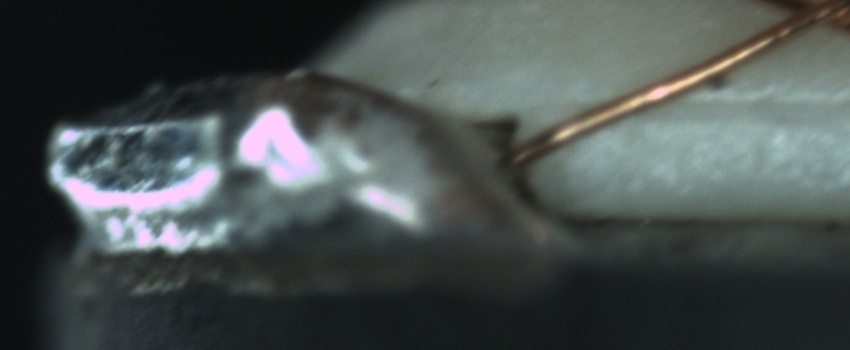CL: (770, 1, 844, 33)
DL: (611, 70, 847, 139)
